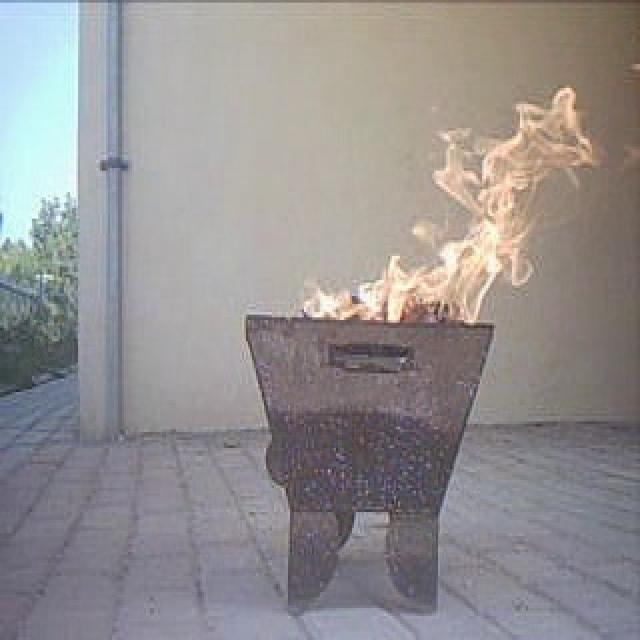fire: (438, 108, 572, 322), (326, 257, 431, 312)
